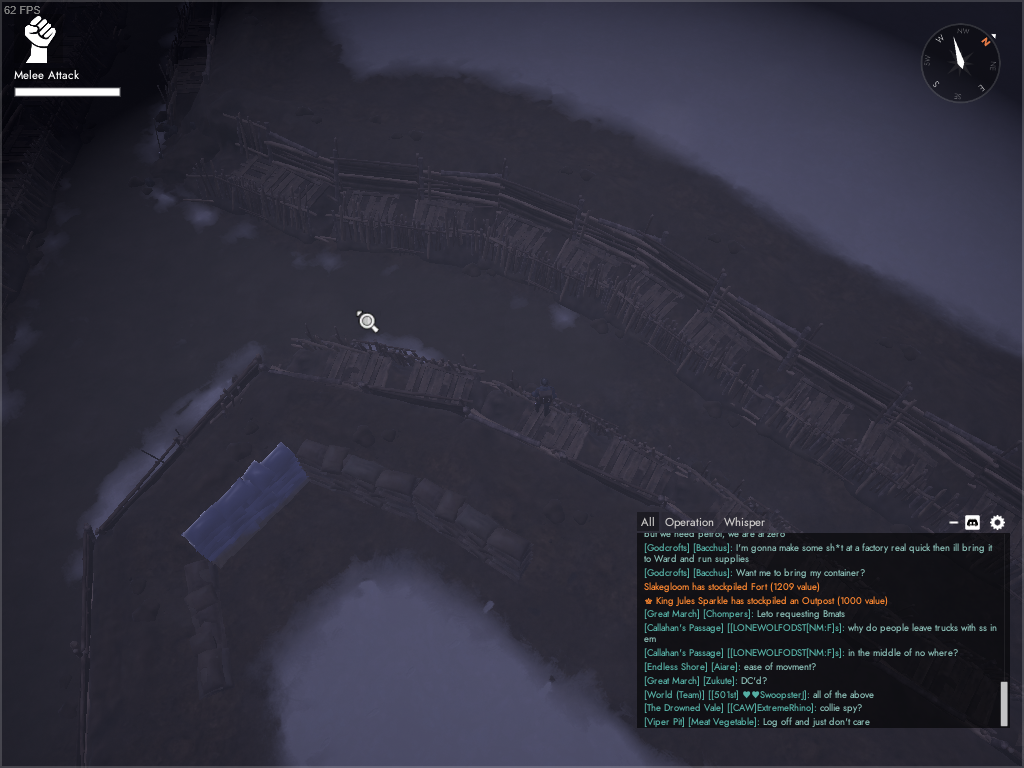player: (530, 376, 555, 419)
sandbag: (178, 439, 304, 563), (411, 477, 531, 584), (296, 438, 418, 522), (183, 559, 237, 700)
